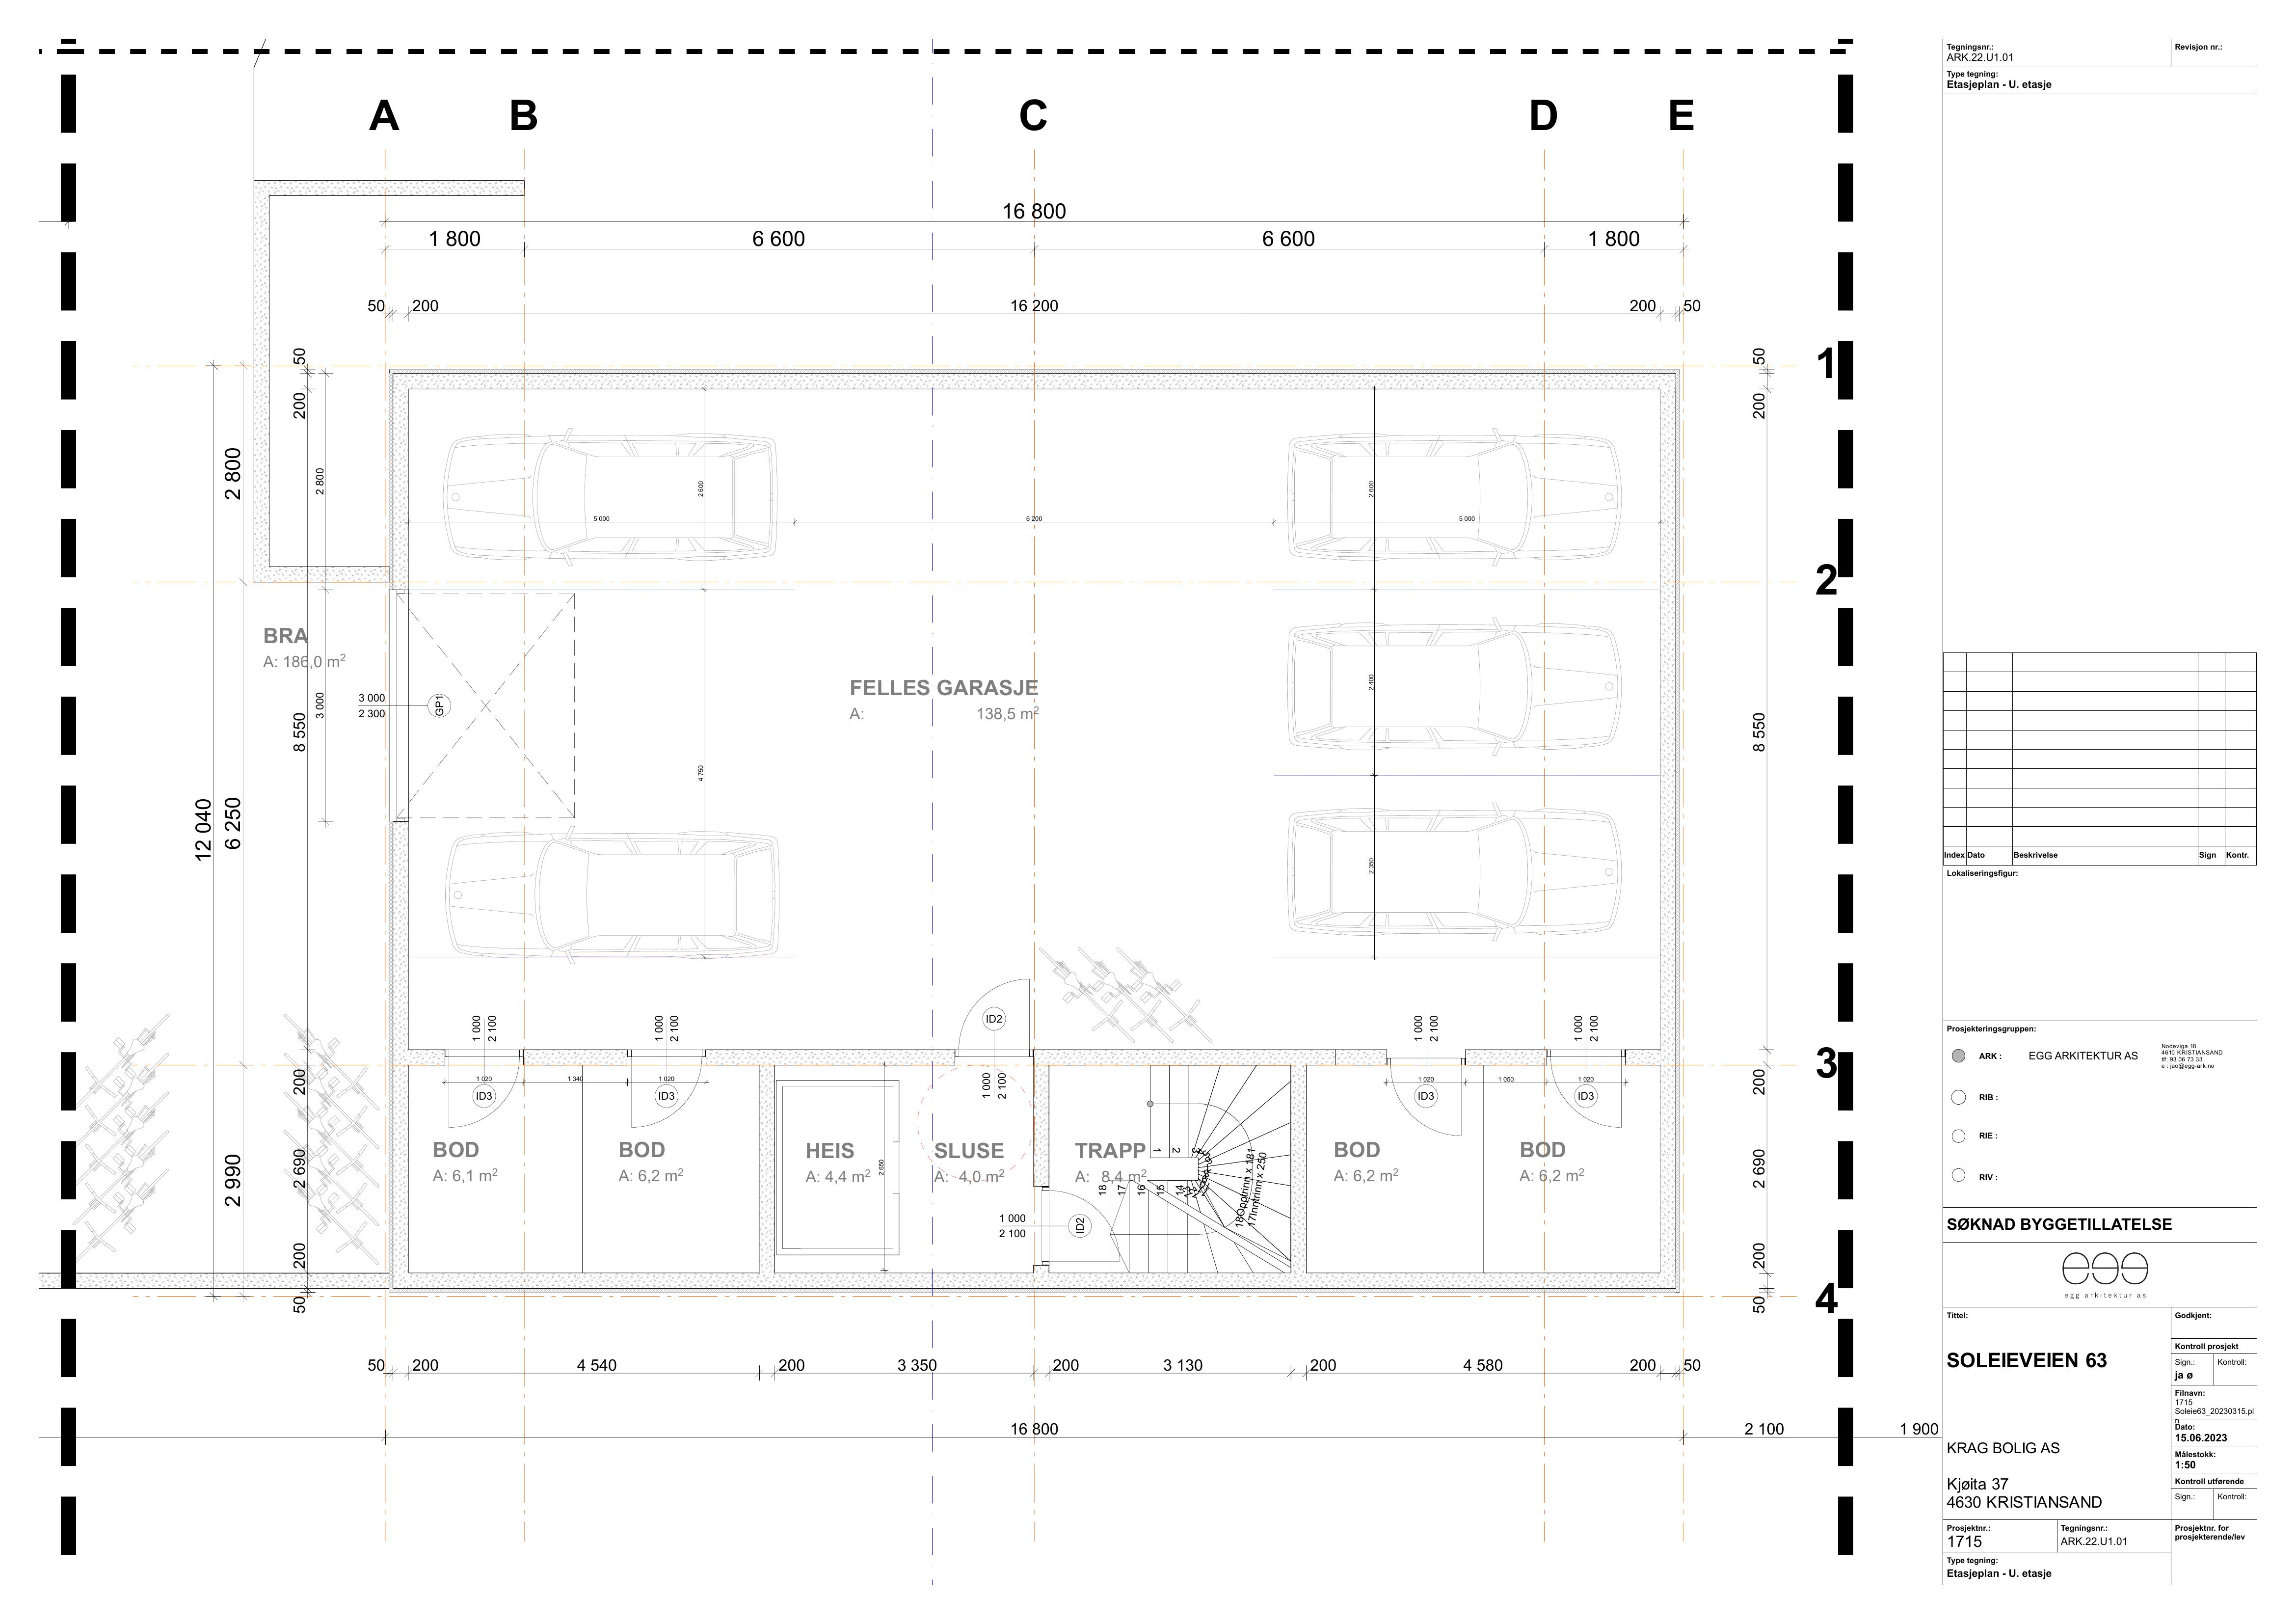plantegning: (222, 157, 1721, 1320)
